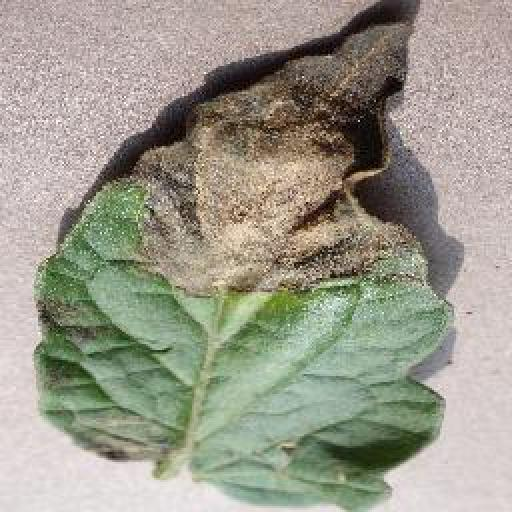disease_tomato: (32, 16, 454, 512)
